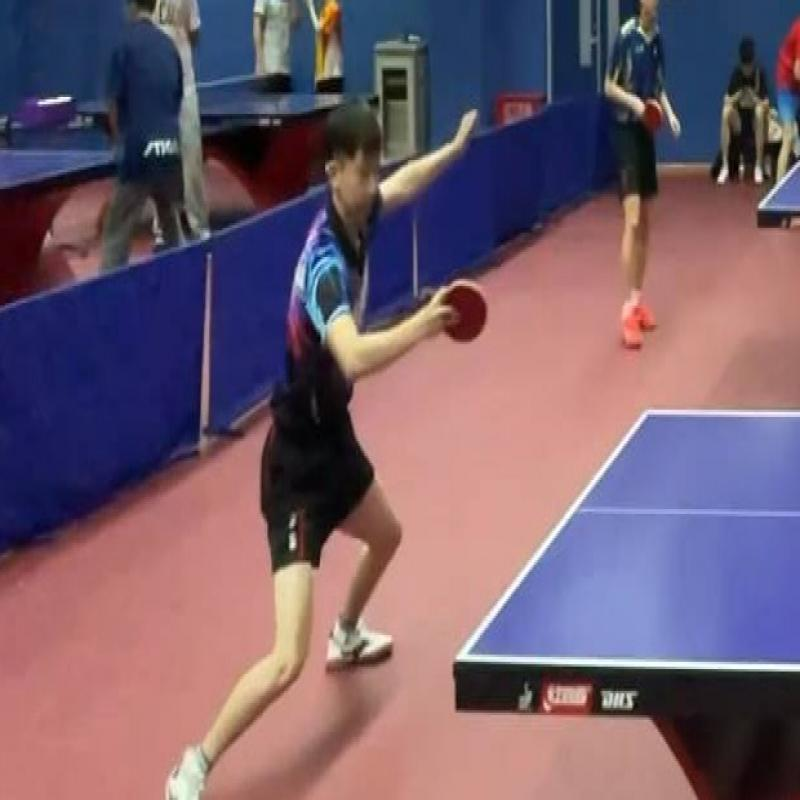bats: (415, 269, 490, 359)
